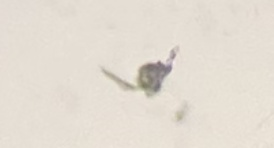microplastic: (100, 45, 179, 97)
